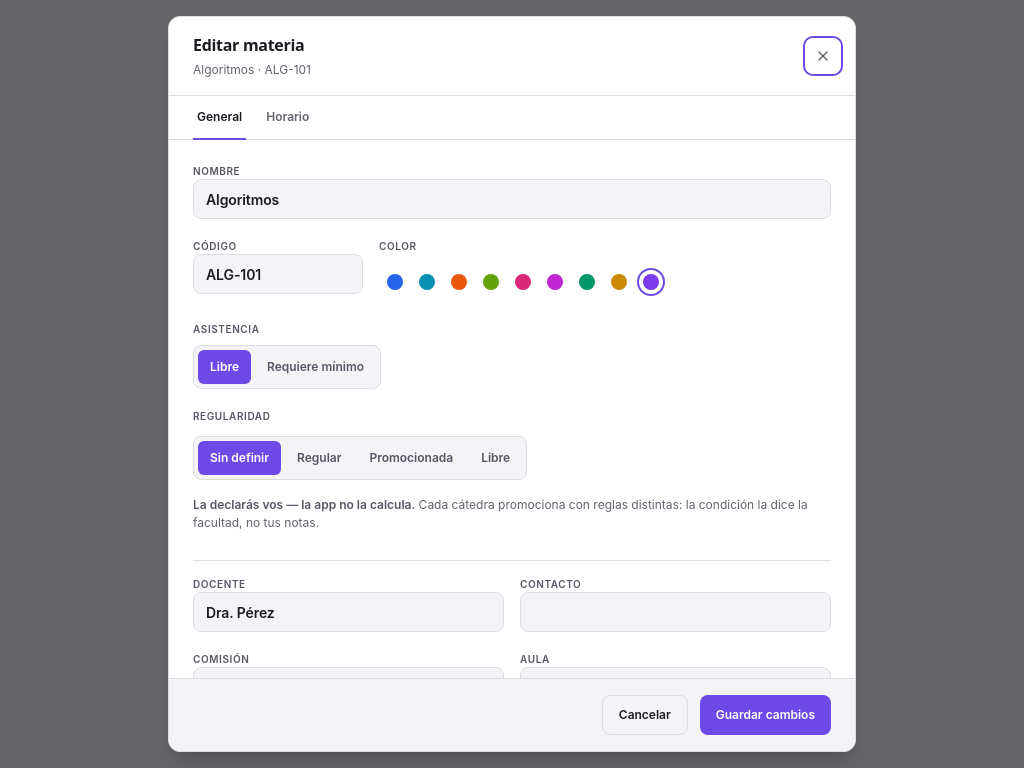
it: EditarMateriaModal › blocks submit and shows a validation error when name is cleared
The image size is (1024, 768).
Step 1. Clear the field labelled "NOMBRE" → [512, 199], box x1=193 y1=179 x2=831 y2=219
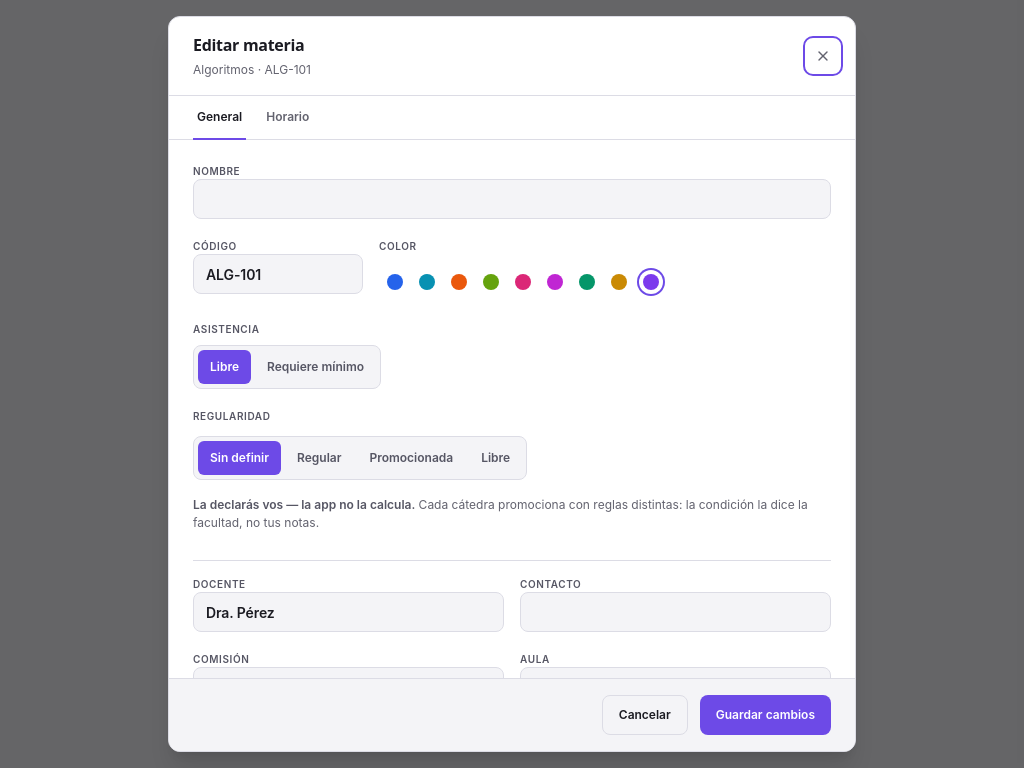
Step 2. Click the button "Guardar cambios" → [765, 715], box x1=700 y1=695 x2=831 y2=735
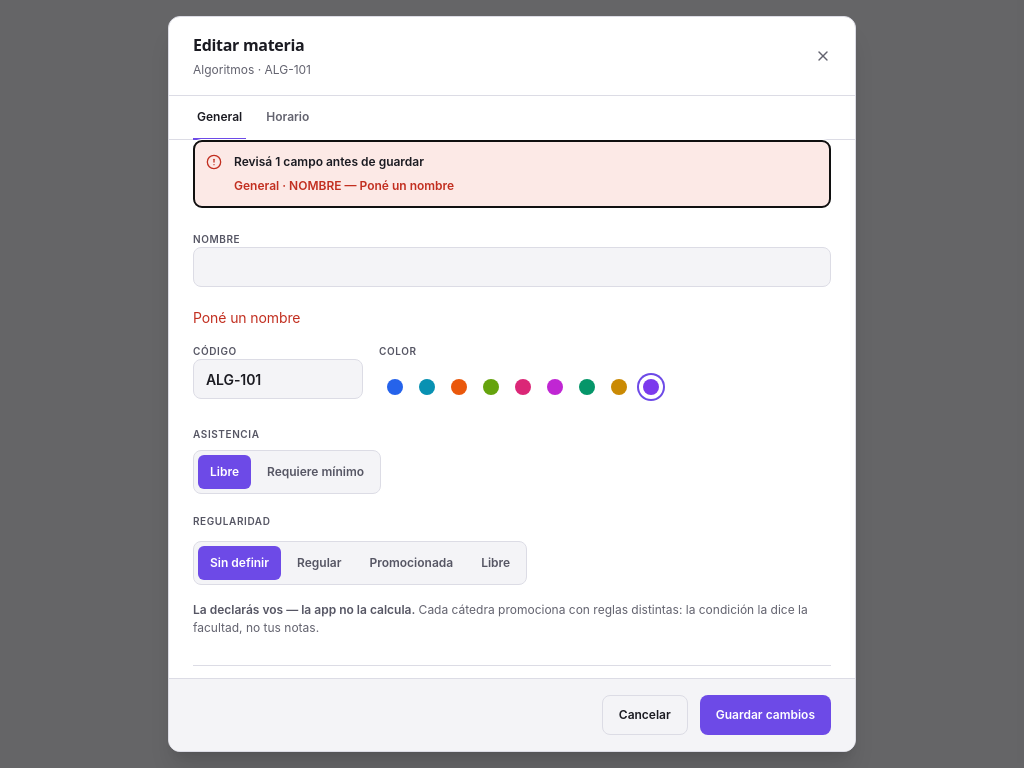
Expected: the text "Poné un nombre" is shown, x1=193 y1=309 x2=300 y2=326
